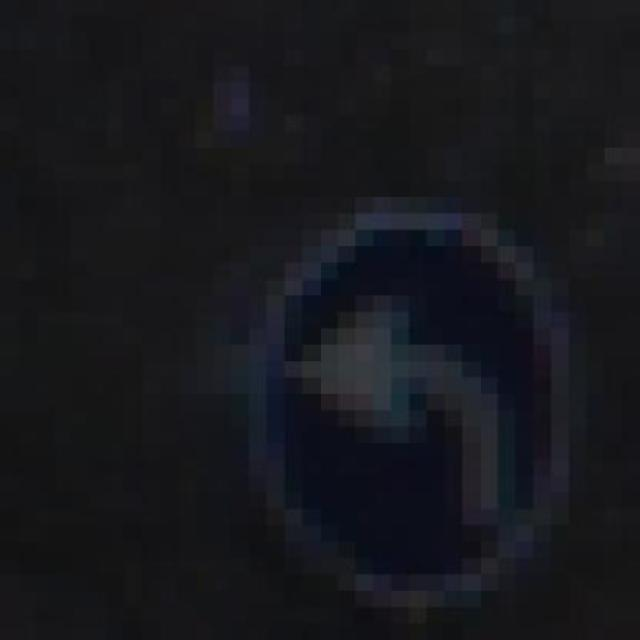Turn left ahead: (213, 180, 587, 608)
